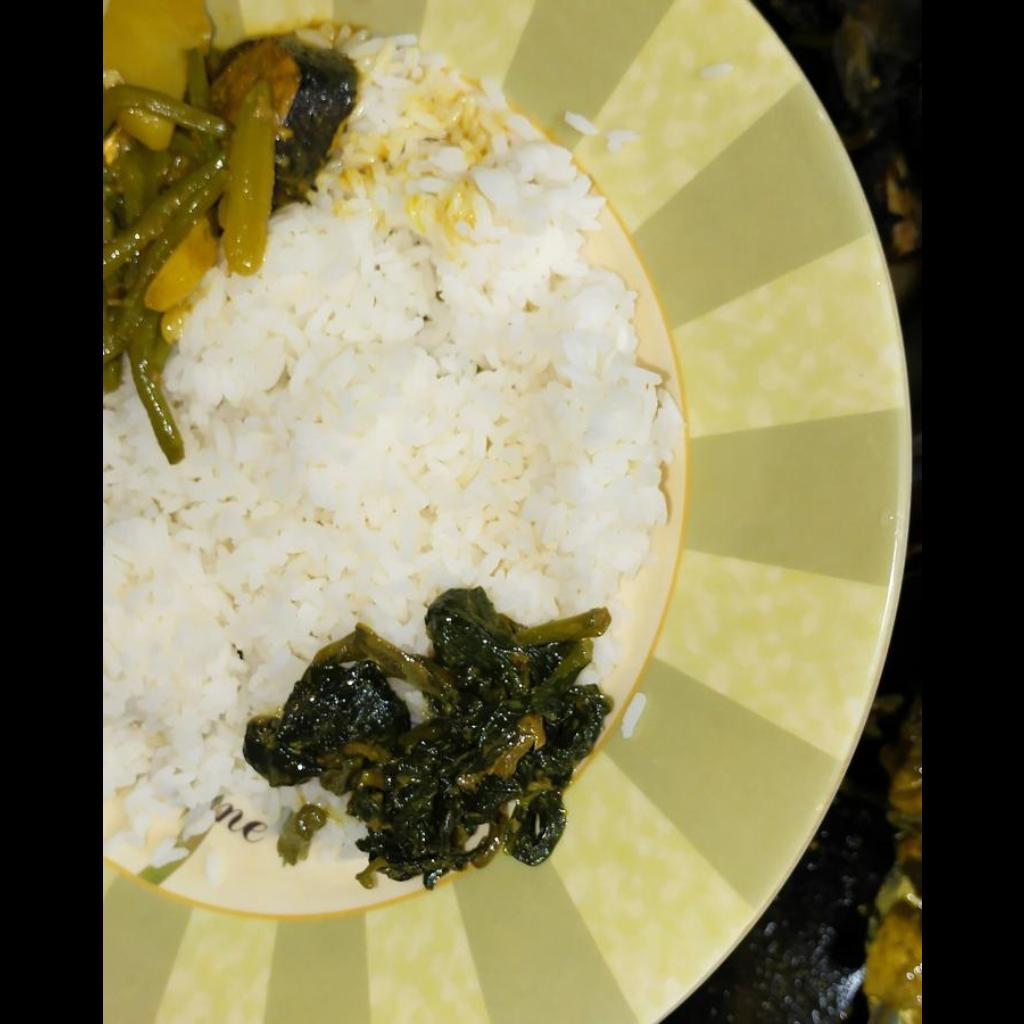rice: (102, 21, 686, 835)
shak: (243, 584, 614, 885)
vegetable: (106, 38, 359, 463)
